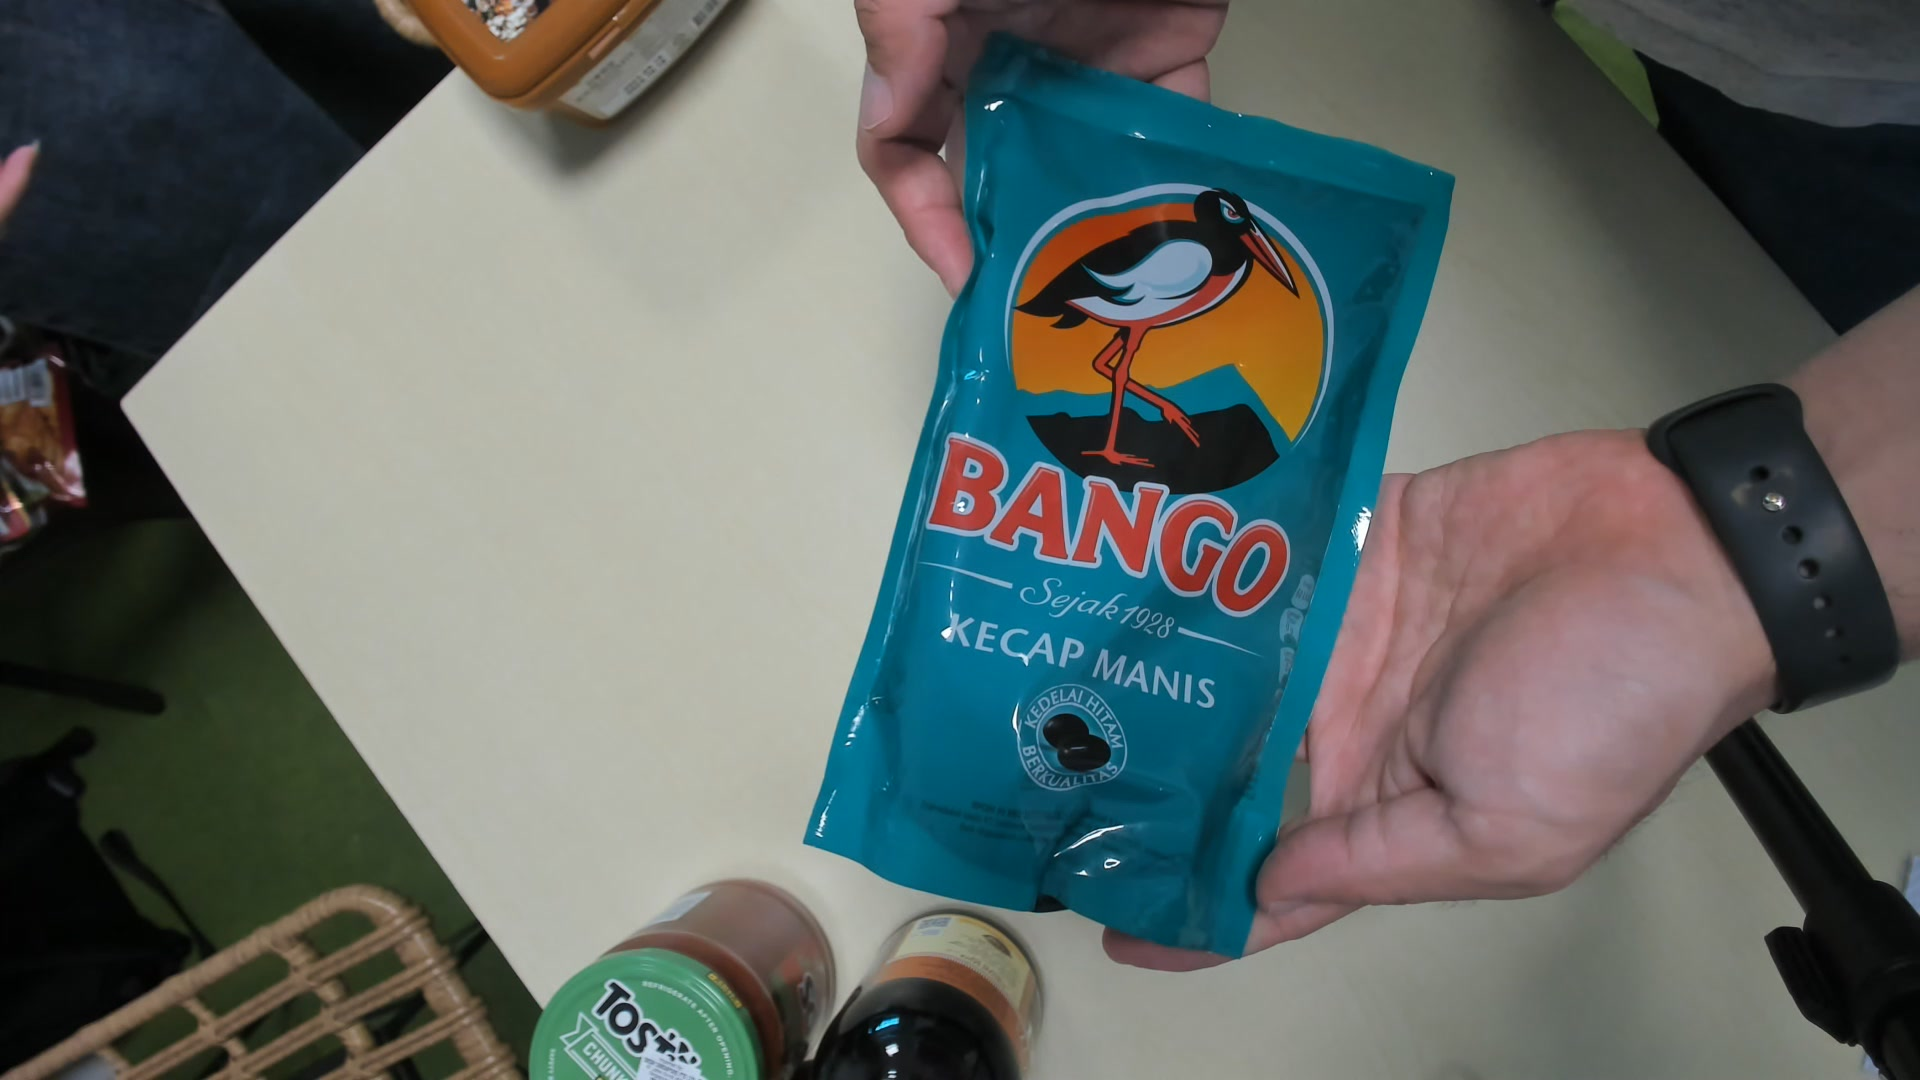OtherSauceDressing_500-599g_NonHalal_NonHealthy: (829, 78, 1443, 951)
